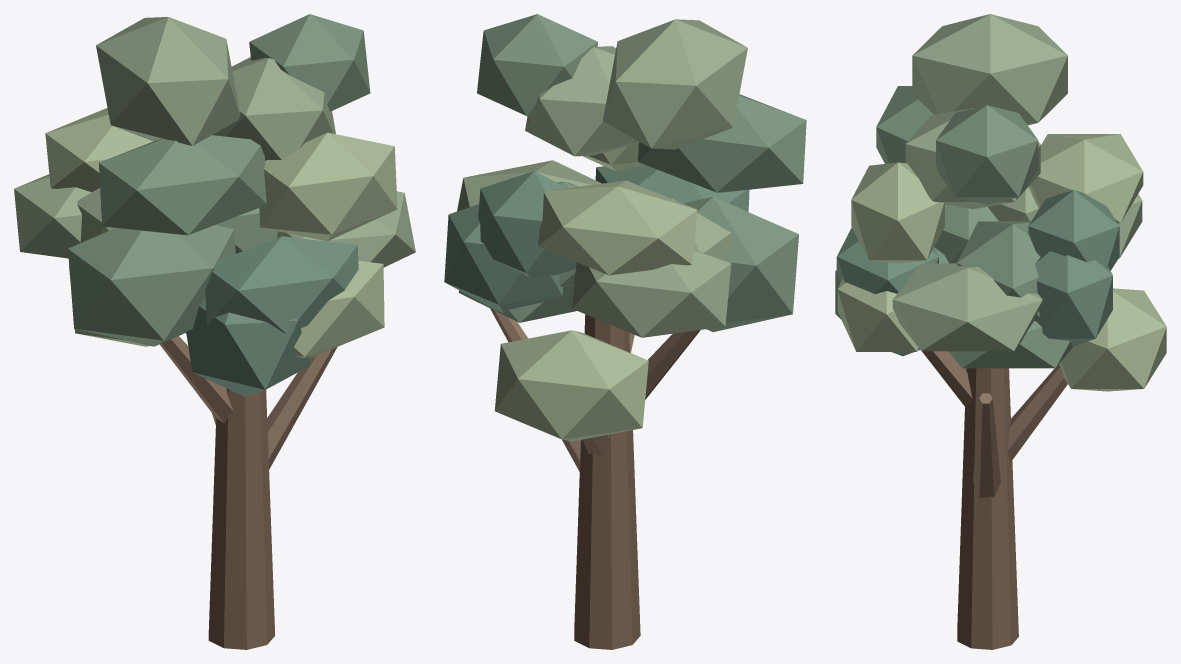
Rendered from OutdoorOliveTree_A.fbx.
3 renders of one model, left to right at view 1: azimuth 30°, elevation 25°; view 2: azimuth 150°, elevation 25°; view 3: azimuth 270°, elevation 25°, orthographic. The views are drawn at different scales.
Visible parts, largest first — view 1: OutdoorOliveTree_A; view 2: OutdoorOliveTree_A; view 3: OutdoorOliveTree_A.
Part boxes in pixels (bbox=[...]): OutdoorOliveTree_A: bbox=[14, 14, 415, 649]; OutdoorOliveTree_A: bbox=[444, 14, 806, 649]; OutdoorOliveTree_A: bbox=[835, 14, 1166, 649].
Size of the model in its own units: 245 by 450 by 229.
